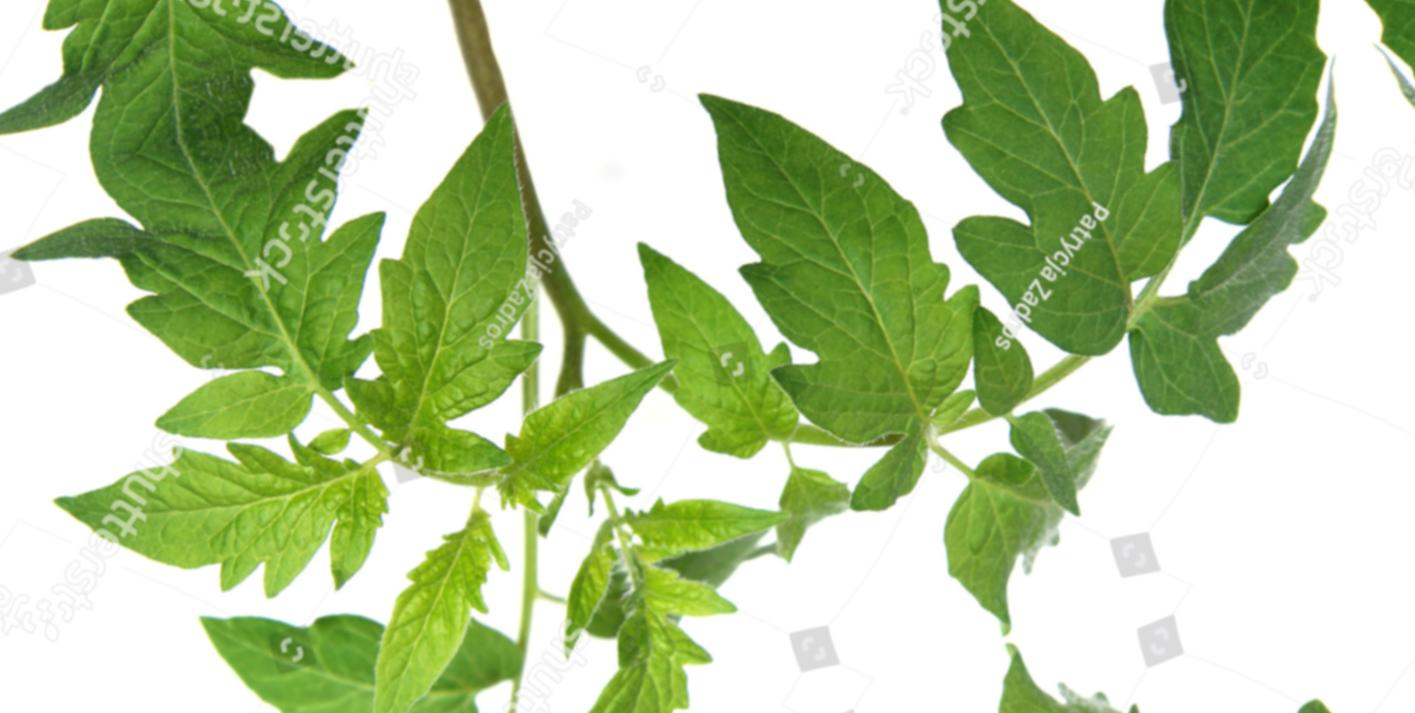Tomato leaf: (634, 0, 1005, 534), (782, 0, 1214, 409), (0, 312, 427, 685), (37, 100, 409, 502), (310, 109, 597, 462), (1056, 0, 1401, 283), (273, 430, 591, 713), (459, 447, 765, 713)
